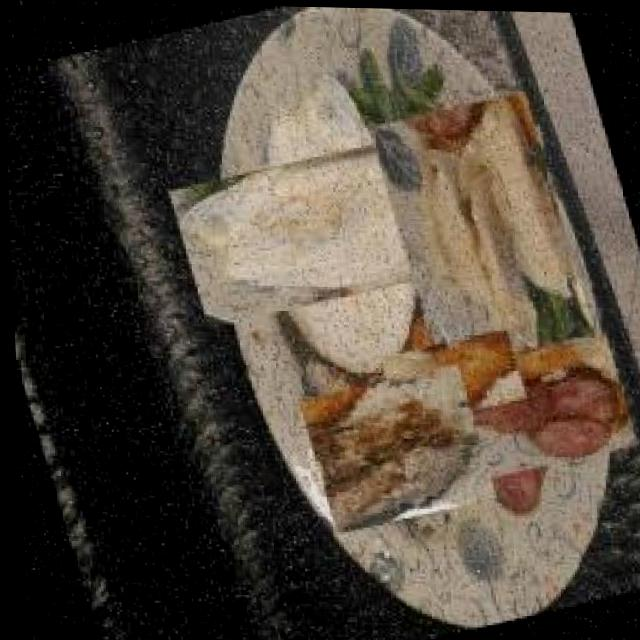chinese_sausage: (431, 315, 622, 504)
fried_dumplings: (366, 86, 596, 373)
fried_eggs: (193, 88, 470, 361)
rice: (297, 353, 489, 541)
triangle_hash_brown: (386, 312, 513, 439)
